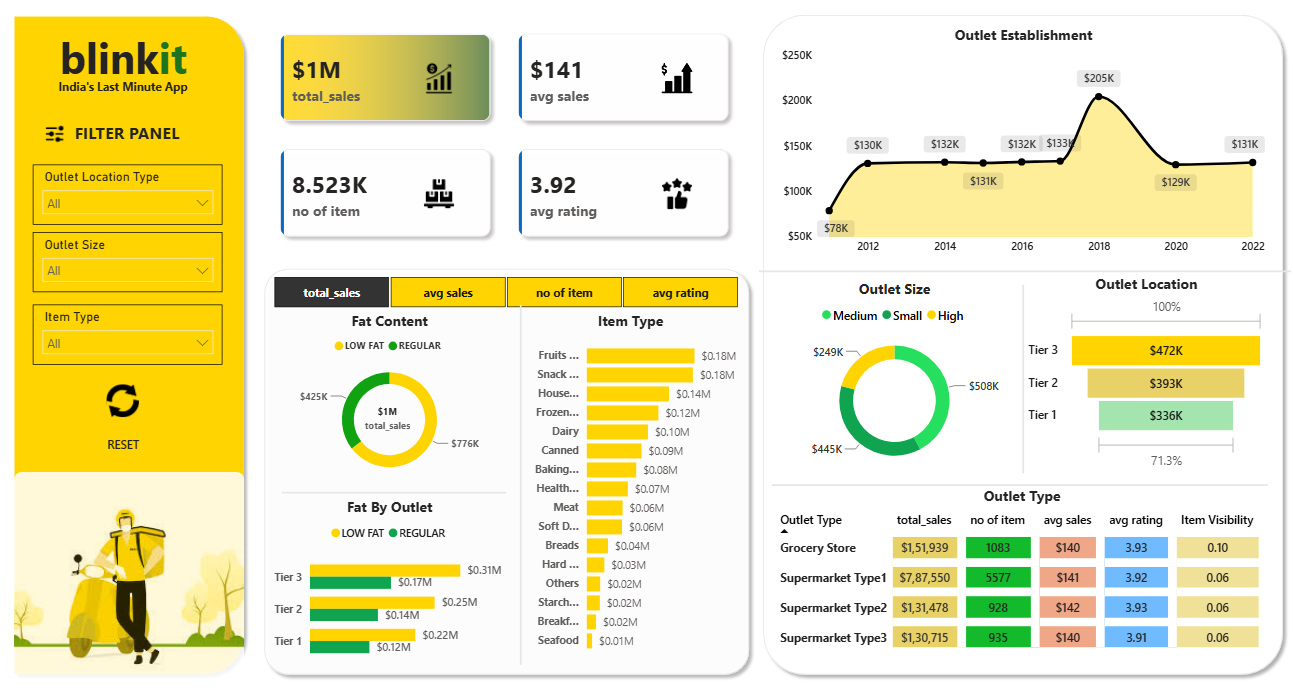

What the dashboard file says about the page in this screenshot:
{"tool":"powerbi","page":{"name":"Page 1","canvas":[1500,800],"ordinal":0},"visuals":[{"type":"shape","box":[8.6,12.9,280,770],"z":0},{"type":"textbox","box":[28.8,31.2,227.5,86.2],"z":1000},{"type":"textbox","box":[62.5,88.8,158.8,28.8],"z":2000},{"type":"shape","box":[294,302,572,482],"z":3000},{"type":"donutChart","title":"Fat Content","fields":{"Y":["BlinkIT Grocery Data.total_sales"],"Category":["BlinkIT Grocery Data.Item Fat Content"]},"box":[308.6,358.6,275.7,200],"z":4000},{"type":"cardVisual","fields":{"Data":["BlinkIT Grocery Data.total_sales"]},"box":[378,441.5,131.3,79.4],"z":5000},{"type":"cardVisual","fields":{"Data":["BlinkIT Grocery Data.total_sales","BlinkIT Grocery Data.avg sales","BlinkIT Grocery Data.no of item","BlinkIT Grocery Data.avg rating"]},"box":[292.5,12.5,571.2,290],"z":6000},{"type":"slicer","fields":{"Values":["metrics 2.metrics"]},"box":[288.8,312.5,580,48.8],"z":7000},{"type":"shape","box":[864,12,612,772],"z":8000},{"type":"shape","box":[322.9,461.4,257.1,210],"z":9000},{"type":"shape","box":[444,352,304,412],"z":10000},{"type":"barChart","title":"Item Type","fields":{"Y":["BlinkIT Grocery Data.total_sales"],"Category":["BlinkIT Grocery Data.Item Type"]},"box":[596,358,252,400],"z":11000},{"type":"clusteredBarChart","title":"Fat By Outlet","fields":{"Y":["BlinkIT Grocery Data.total_sales"],"Category":["BlinkIT Grocery Data.Outlet Location Type"],"Series":["BlinkIT Grocery Data.Item Fat Content"]},"box":[308,572,276,200],"z":12000},{"type":"lineChart","title":"Outlet Establishment","fields":{"Category":["BlinkIT Grocery Data.Outlet Establishment Year"],"Y":["BlinkIT Grocery Data.total_sales"]},"box":[890,32,562,272],"z":13000},{"type":"donutChart","title":"Outlet Size","fields":{"Y":["BlinkIT Grocery Data.total_sales"],"Category":["BlinkIT Grocery Data.Outlet Size"]},"box":[882.9,321.4,281.4,228.6],"z":14000},{"type":"shape","box":[868,208,608,210],"z":15000},{"type":"shape","box":[1018,328,304,216],"z":16000},{"type":"shape","box":[882.9,452.9,567.1,210],"z":17000},{"type":"funnel","title":" Outlet Location ","fields":{"Y":["BlinkIT Grocery Data.total_sales"],"Category":["BlinkIT Grocery Data.Outlet Location Type"]},"box":[1172,316,280,230],"z":18000},{"type":"pivotTable","title":"Outlet Type","fields":{"Rows":["BlinkIT Grocery Data.Outlet Type"],"Values":["BlinkIT Grocery Data.total_sales","BlinkIT Grocery Data.no of item","BlinkIT Grocery Data.avg sales","BlinkIT Grocery Data.avg rating","Avg(BlinkIT Grocery Data.Item Visibility)"]},"box":[882.9,558.6,572.9,194.3],"z":19000},{"type":"slicer","fields":{"Values":["BlinkIT Grocery Data.Outlet Location Type"]},"box":[38.6,191.4,217.1,68.6],"z":20000},{"type":"slicer","fields":{"Values":["BlinkIT Grocery Data.Item Type"]},"box":[38.6,351.4,217.1,68.6],"z":21000},{"type":"textbox","box":[81.4,137.1,134.3,38.6],"z":22000},{"type":"slicer","fields":{"Values":["BlinkIT Grocery Data.Outlet Size"]},"box":[38.6,268.6,217.1,68.6],"z":23000},{"type":"actionButton","box":[118.6,438.6,47.1,45.7],"z":24000},{"type":"actionButton","box":[49,141,32,30],"z":25000},{"type":"textbox","box":[118.6,497.1,60,45.7],"z":27000},{"type":"image","box":[17.1,542.9,262.9,244.3],"z":28000}]}

Visuals, with their boxes in screenshot pixels (x1, y1, x2, y2), scaled from the page's 1500x800 canvas onto the 1293x690 screenshot:
shape: [7, 11, 249, 675]
textbox: [25, 27, 221, 101]
textbox: [54, 77, 191, 101]
shape: [253, 260, 746, 676]
"Fat Content" donutChart: [266, 309, 504, 482]
cardVisual - BlinkIT Grocery Data.total_sales: [326, 381, 439, 449]
cardVisual - BlinkIT Grocery Data.total_sales x BlinkIT Grocery Data.avg sales: [252, 11, 745, 261]
slicer - metrics 2.metrics: [249, 270, 749, 312]
shape: [745, 10, 1272, 676]
shape: [278, 398, 500, 579]
shape: [383, 304, 645, 659]
"Item Type" barChart: [514, 309, 731, 654]
"Fat By Outlet" clusteredBarChart: [265, 493, 503, 666]
"Outlet Establishment" lineChart: [767, 28, 1252, 262]
"Outlet Size" donutChart: [761, 277, 1004, 474]
shape: [748, 179, 1272, 361]
shape: [878, 283, 1140, 469]
shape: [761, 391, 1250, 572]
" Outlet Location " funnel: [1010, 273, 1252, 471]
"Outlet Type" pivotTable: [761, 482, 1255, 649]
slicer - BlinkIT Grocery Data.Outlet Location Type: [33, 165, 220, 224]
slicer - BlinkIT Grocery Data.Item Type: [33, 303, 220, 362]
textbox: [70, 118, 186, 152]
slicer - BlinkIT Grocery Data.Outlet Size: [33, 232, 220, 291]
actionButton: [102, 378, 143, 418]
actionButton: [42, 122, 70, 147]
textbox: [102, 429, 154, 468]
image: [15, 468, 241, 679]
